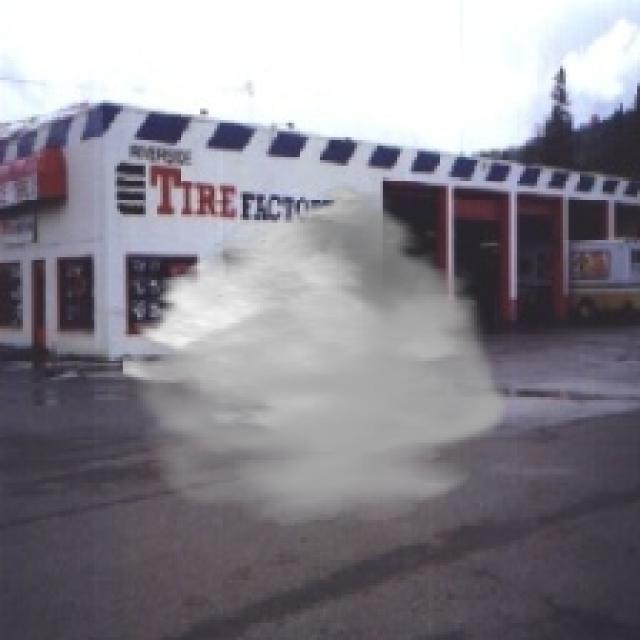Smoke: (122, 183, 514, 526)
